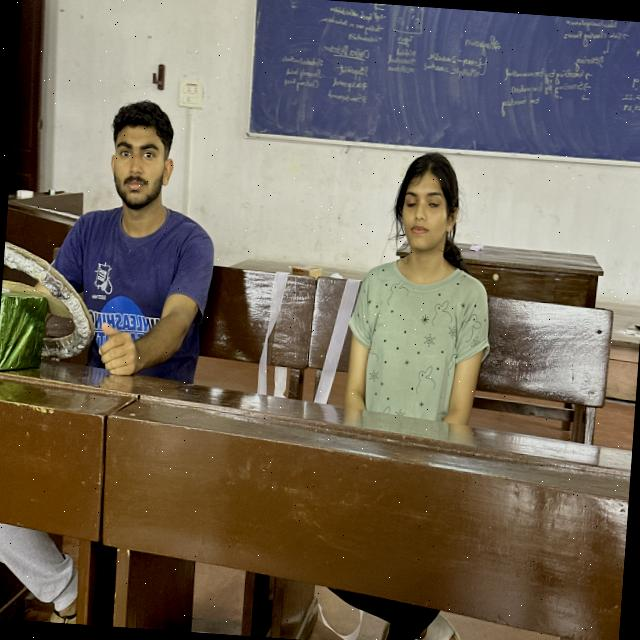Helmet: (308, 241, 510, 452), (16, 188, 221, 382)
